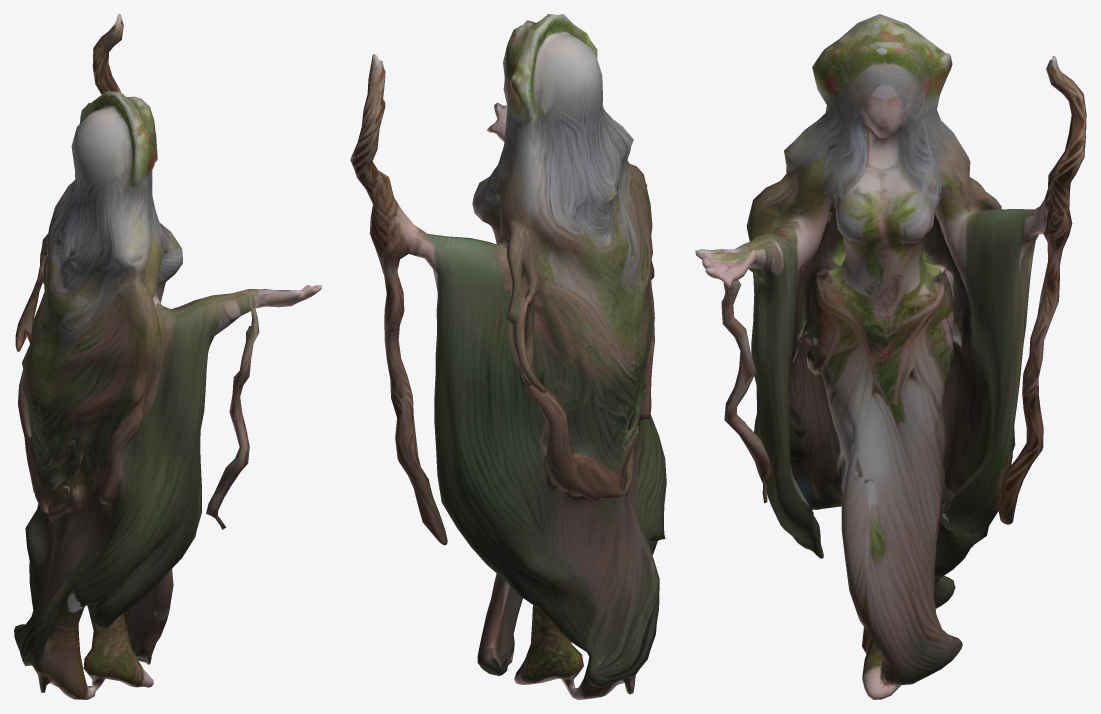
The model's file is Gaia3.glb.
3 views of the same model, side by side, from view 1: azimuth 30°, elevation 25°; view 2: azimuth 150°, elevation 25°; view 3: azimuth 270°, elevation 25° (orthographic). The views are drawn at different scales.
Visible parts, largest first — view 1: tripo_node_2df5d7d7-7e2f-4d4d-b45b-340183bafc20; view 2: tripo_node_2df5d7d7-7e2f-4d4d-b45b-340183bafc20; view 3: tripo_node_2df5d7d7-7e2f-4d4d-b45b-340183bafc20.
Boxes of the visible parts, bbox=[...] form: tripo_node_2df5d7d7-7e2f-4d4d-b45b-340183bafc20: bbox=[14, 14, 321, 699]; tripo_node_2df5d7d7-7e2f-4d4d-b45b-340183bafc20: bbox=[350, 14, 666, 699]; tripo_node_2df5d7d7-7e2f-4d4d-b45b-340183bafc20: bbox=[695, 14, 1086, 699].
Bounding box in the file's own units: 0.3554 × 0.9397 × 0.4963.
Materials: 1 (1 with a texture image).
